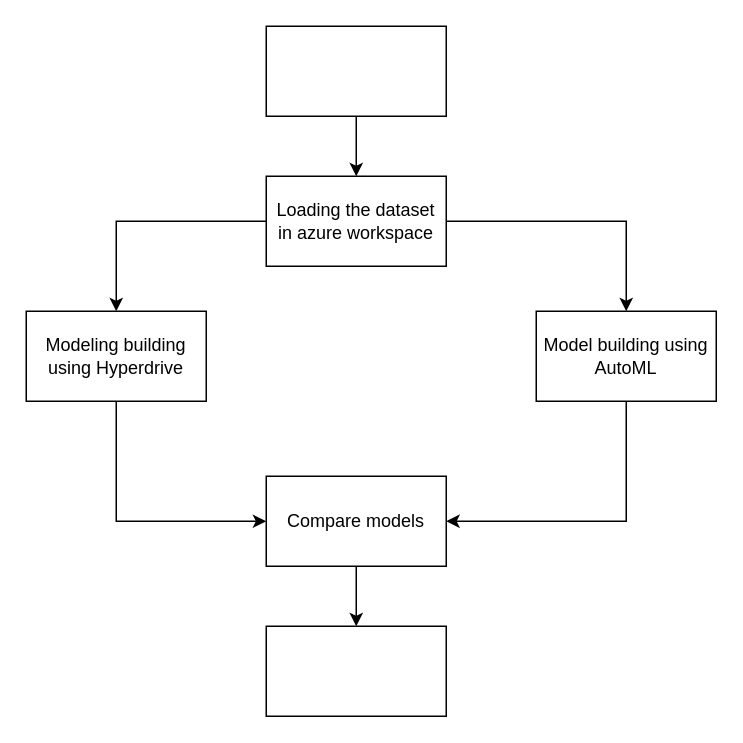
The diagram is 743 pixels wide and 743 high, and some of its shapes have lost their labels. Each missing label, with the centre of its shape:
"Deploy and test the best model" belongs at pixel 355 670.
"Heart Failure Dataset from Kaggle" belongs at pixel 355 70.
